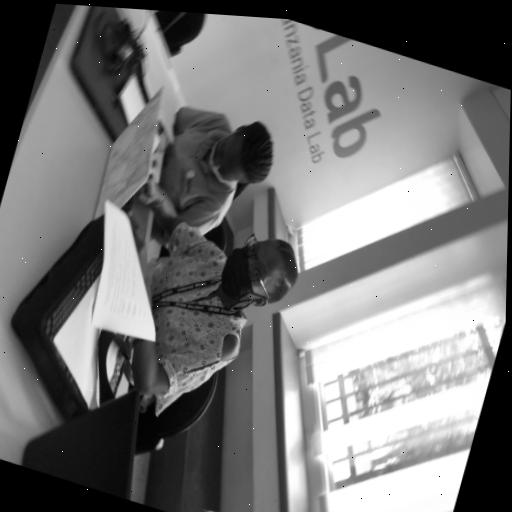mask: (214, 228, 281, 318), (197, 127, 249, 195)
